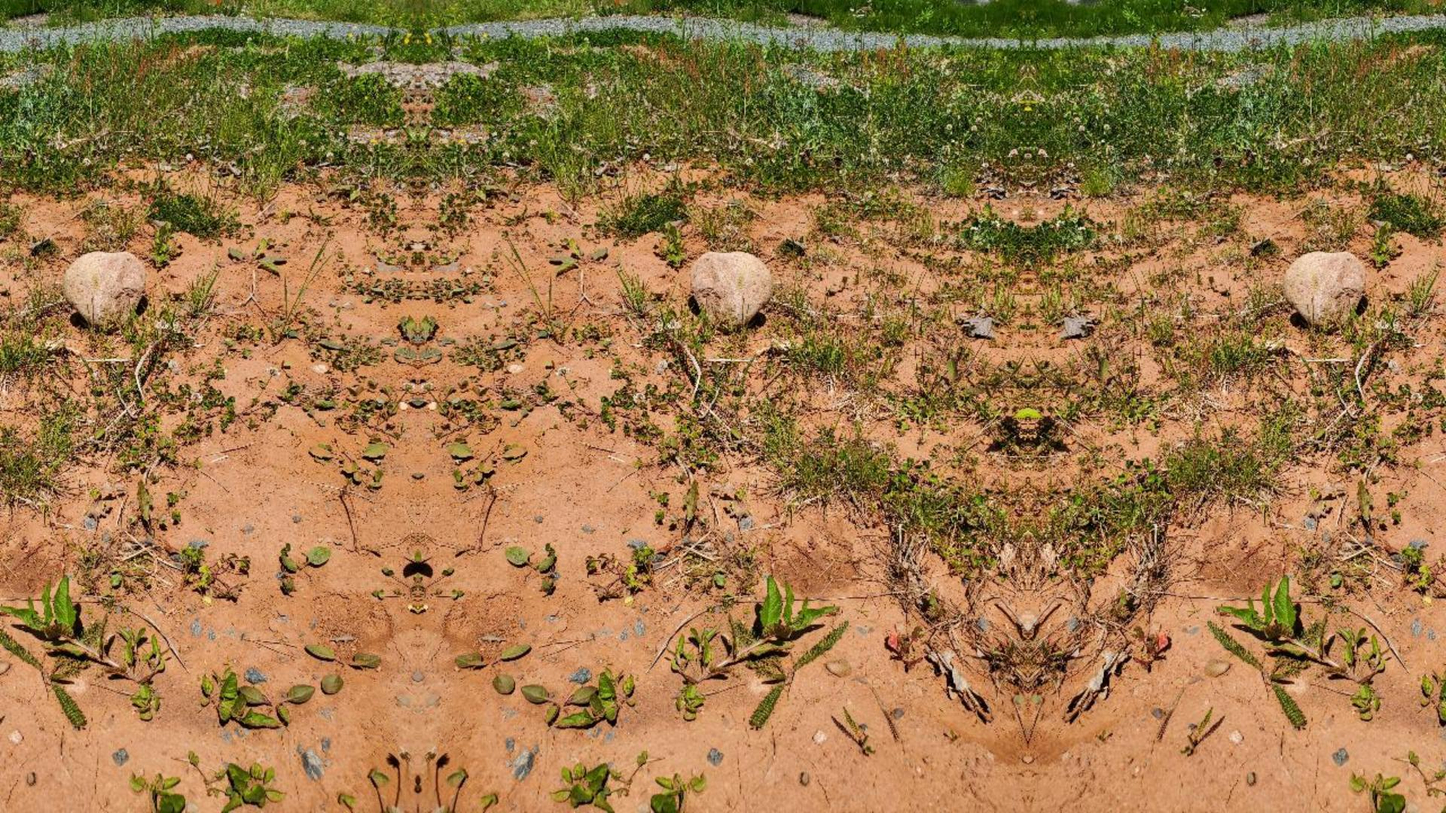rock: (1282, 252, 1365, 327), (63, 252, 146, 326), (690, 252, 770, 327)
